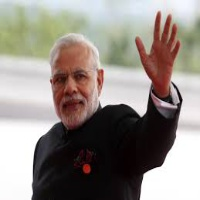ring: (167, 22, 180, 55)
